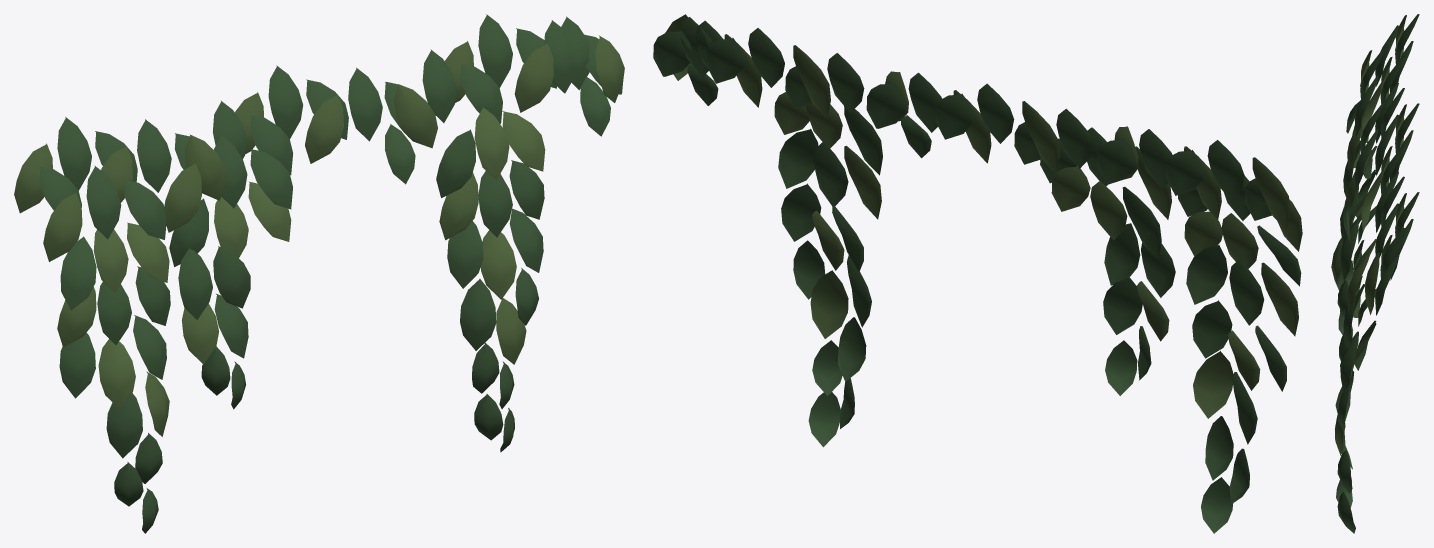
File: enredadera_1.fbx
The picture shows the model from 3 angles, left to right: view 1: azimuth 30°, elevation 25°; view 2: azimuth 150°, elevation 25°; view 3: azimuth 270°, elevation 25°; orthographic projection. The views are drawn at different scales.
Visible parts, largest first — view 1: Hoja80; view 2: Hoja80; view 3: Hoja80.
Part boxes in pixels (<box>): Hoja80: <box>14,14,624,533</box>; Hoja80: <box>653,14,1302,533</box>; Hoja80: <box>1331,14,1419,533</box>.
Size of the model in its own units: 8.03 by 5.22 by 1.19.
